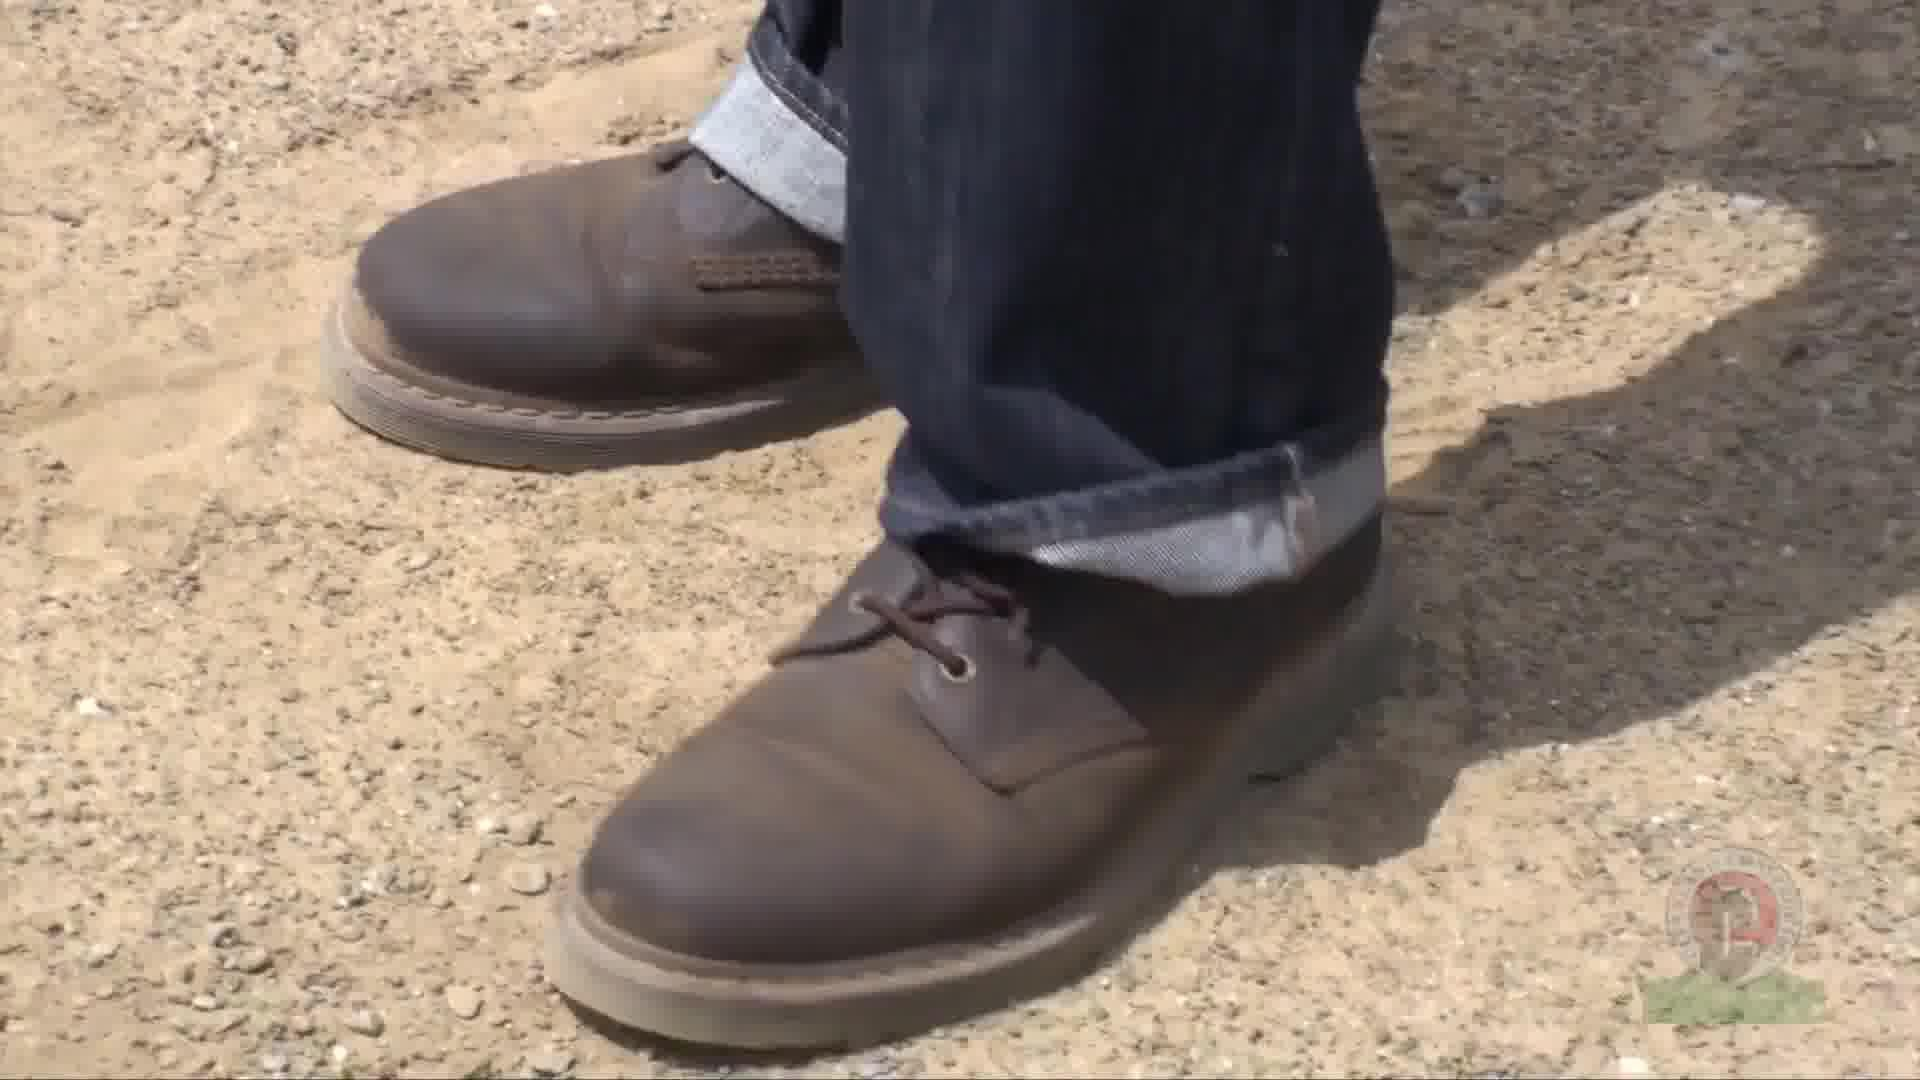safety boot: (269, 0, 1477, 1059), (297, 131, 1535, 1075)
